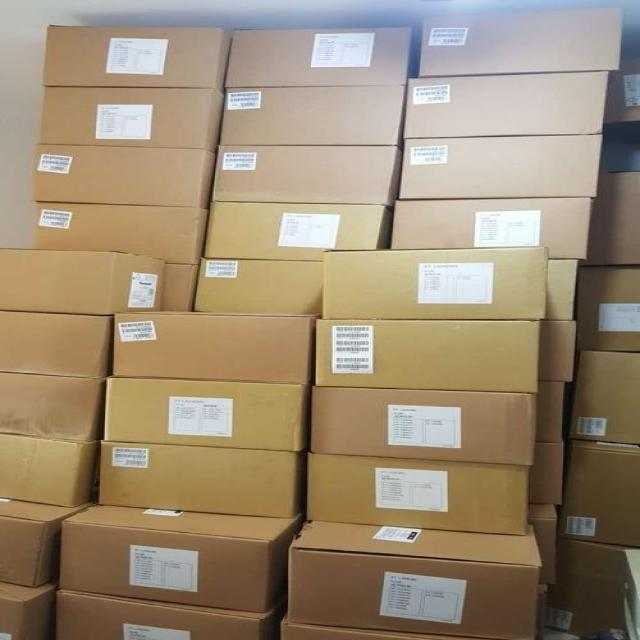box: (288, 520, 541, 639), (58, 505, 306, 613), (308, 387, 539, 466), (308, 453, 530, 534), (317, 248, 549, 320), (315, 320, 540, 394), (97, 441, 307, 518), (104, 377, 310, 452), (421, 6, 625, 81), (110, 310, 315, 384), (404, 72, 609, 139), (44, 24, 232, 95), (389, 197, 596, 261), (401, 135, 603, 199), (38, 86, 224, 153), (212, 144, 402, 207), (220, 86, 407, 150), (33, 145, 219, 209), (225, 27, 417, 88), (54, 590, 288, 640), (202, 201, 392, 262), (0, 247, 168, 315), (33, 202, 207, 264), (545, 538, 640, 637), (0, 497, 96, 588), (558, 440, 640, 546), (193, 259, 325, 316), (0, 434, 101, 508), (568, 351, 640, 444), (580, 171, 640, 266), (577, 266, 640, 351), (280, 620, 471, 640), (0, 582, 58, 639), (603, 58, 640, 141), (527, 503, 558, 583), (527, 443, 563, 507), (539, 321, 575, 382), (535, 382, 566, 443), (550, 259, 580, 321), (160, 265, 196, 311), (622, 550, 640, 639), (623, 598, 636, 639)
